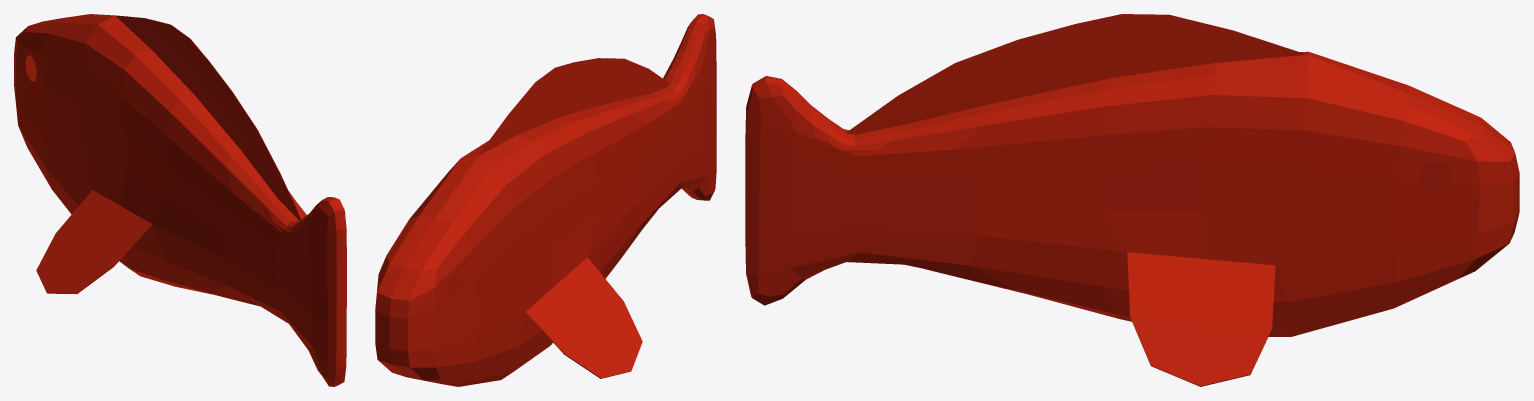
The model's file is PESCADO_PRP.fbx.
The picture shows the model from 3 angles, left to right: view 1: azimuth 30°, elevation 25°; view 2: azimuth 150°, elevation 25°; view 3: azimuth 270°, elevation 25°; orthographic projection. The views are drawn at different scales.
Parts seen in each view (by area): view 1: PESCADO_PRP; view 2: PESCADO_PRP; view 3: PESCADO_PRP.
Boxes of the visible parts, x1,y1,x2,y2 form: PESCADO_PRP: (14, 14, 346, 386); PESCADO_PRP: (375, 14, 716, 386); PESCADO_PRP: (745, 14, 1519, 386).
Size of the model in its own units: 5.66 by 6.4 by 14.22.
